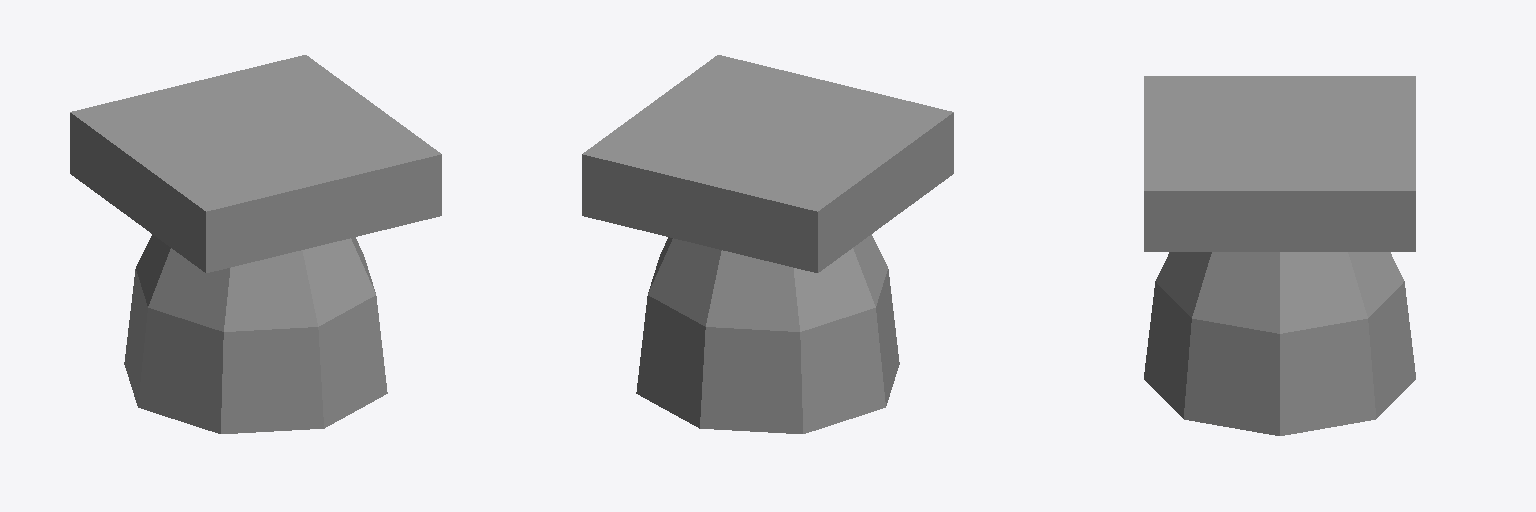
Rendered from rocketmotor.obj.
The picture shows the model from 3 angles: view 1: azimuth 30°, elevation 25°; view 2: azimuth 150°, elevation 25°; view 3: azimuth 270°, elevation 25°; orthographic projection.
Visible parts, largest first — view 1: rocketmotor; view 2: rocketmotor; view 3: rocketmotor.
Part boxes in pixels (x1,y1,x2,y2): rocketmotor: (70,55,441,433); rocketmotor: (582,55,953,433); rocketmotor: (1144,76,1415,435).
Bounding box in the file's own units: 1 × 0.995 × 1.